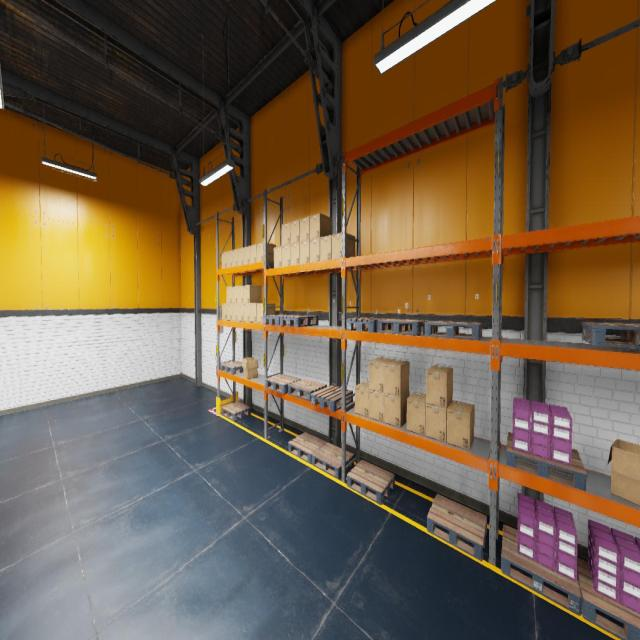box: (607, 439, 640, 506), (447, 400, 474, 450), (426, 365, 453, 408), (426, 400, 452, 443), (384, 359, 409, 397), (384, 390, 409, 428), (369, 357, 393, 393), (407, 392, 426, 436), (332, 232, 354, 260), (309, 213, 332, 239), (355, 381, 369, 417), (369, 389, 384, 422), (256, 242, 276, 262), (256, 303, 276, 322), (242, 356, 259, 378), (243, 284, 262, 303), (320, 234, 331, 260), (309, 238, 320, 262), (290, 218, 300, 244), (290, 242, 300, 266), (300, 216, 309, 241), (300, 240, 309, 264), (282, 222, 290, 245), (282, 244, 290, 267), (274, 246, 282, 267), (243, 303, 250, 322), (243, 246, 250, 264), (250, 303, 256, 322), (250, 244, 256, 263), (226, 303, 232, 320), (226, 286, 232, 303), (226, 250, 232, 267), (238, 247, 243, 266), (238, 304, 243, 322), (238, 285, 243, 303), (232, 248, 237, 266), (232, 304, 237, 320), (232, 286, 237, 302), (222, 303, 226, 320), (222, 251, 226, 268)
pallets: (501, 524, 581, 616), (577, 557, 640, 639), (506, 432, 587, 491), (427, 494, 487, 560), (347, 460, 395, 505), (312, 442, 354, 478), (582, 322, 640, 348), (288, 432, 327, 463), (311, 385, 353, 412), (424, 321, 482, 340), (377, 318, 430, 336), (288, 379, 327, 401), (266, 374, 302, 393), (346, 318, 392, 332), (222, 402, 250, 421), (280, 315, 318, 327), (263, 314, 297, 324), (220, 361, 243, 374)
